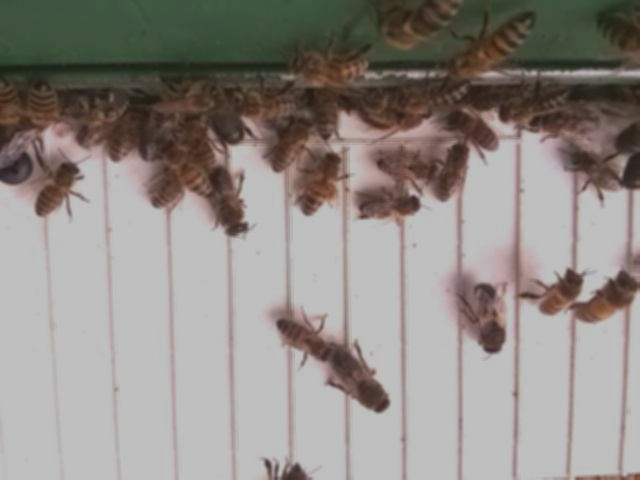Drone: (325, 345, 395, 417), (466, 280, 513, 359), (206, 166, 252, 240)
Worker: (448, 12, 536, 84), (273, 312, 336, 371), (225, 81, 300, 127), (392, 77, 470, 120), (562, 146, 628, 196), (298, 151, 344, 222), (33, 158, 84, 222), (165, 138, 212, 204), (498, 86, 573, 127), (443, 107, 503, 157), (370, 146, 438, 190), (350, 191, 433, 227), (65, 82, 131, 127), (576, 279, 636, 326), (361, 103, 437, 140), (435, 143, 476, 208), (270, 117, 313, 178), (290, 55, 370, 84), (106, 107, 144, 167), (536, 271, 582, 316), (27, 79, 58, 141), (149, 170, 189, 212), (314, 90, 341, 144)
